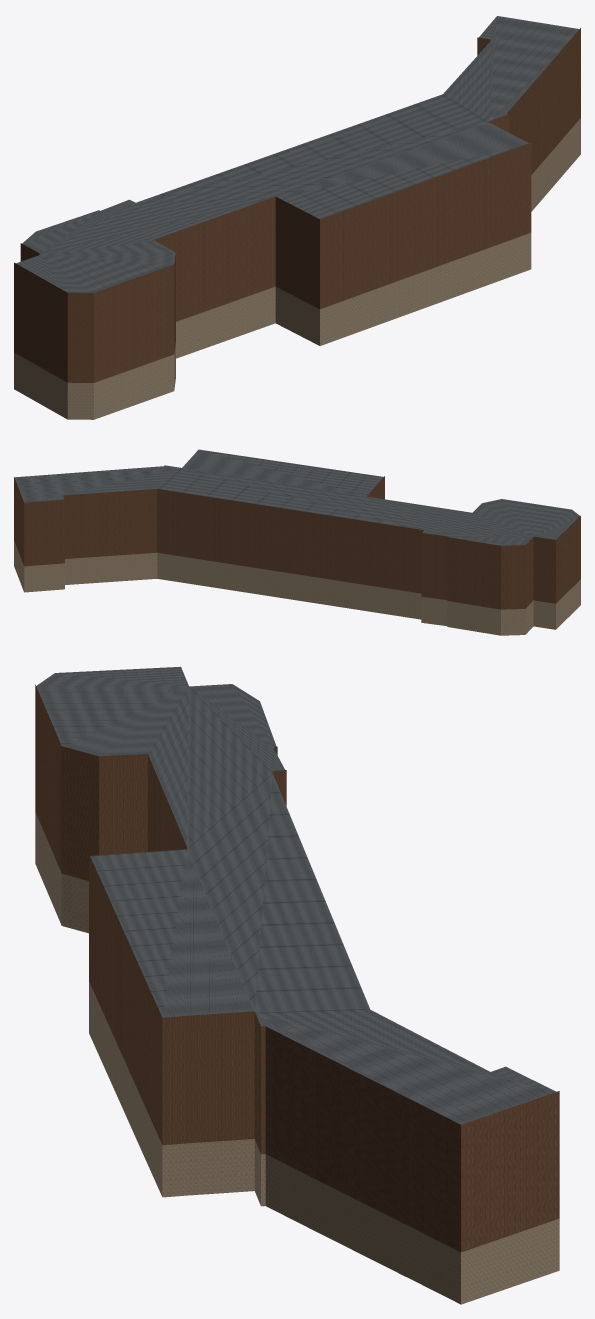
File: bld_c8_41_513.gltf
The picture shows the model from 3 angles, top to bottom: view 1: azimuth 30°, elevation 25°; view 2: azimuth 150°, elevation 25°; view 3: azimuth 270°, elevation 25°; orthographic projection. The views are drawn at different scales.
Visible parts, largest first — view 1: bld_c8_41_513; view 2: bld_c8_41_513; view 3: bld_c8_41_513.
Part boxes in pixels (x1,y1,x2,y2): bld_c8_41_513: (14,16,580,419); bld_c8_41_513: (14,449,580,635); bld_c8_41_513: (35,666,559,1304).
Bounding box in the file's own units: 96.55 × 17.58 × 46.45.
Materials: 4 (4 with a texture image).
